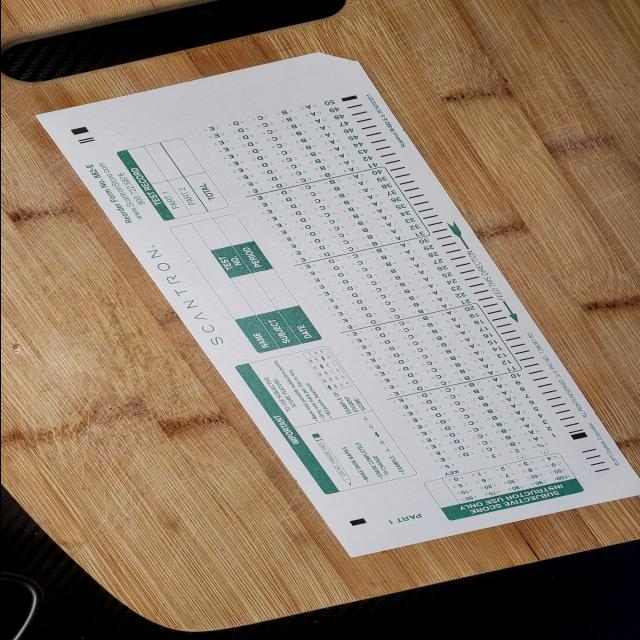scantron: (35, 51, 640, 560)
